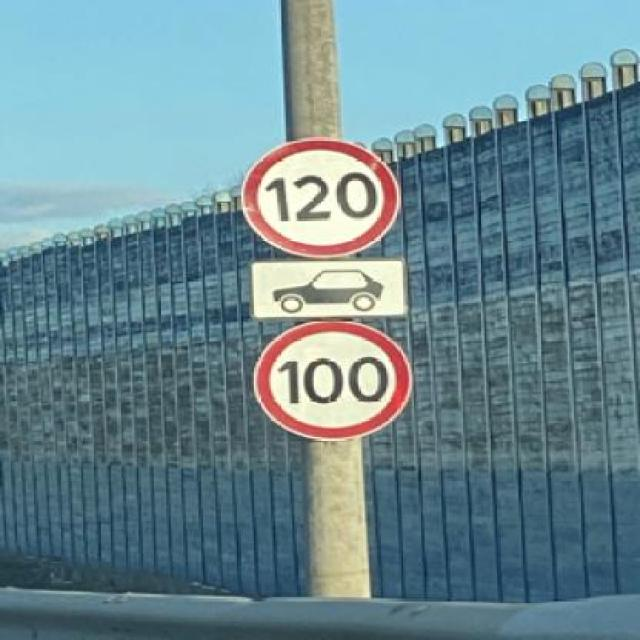forb_speed_over_100: (256, 318, 415, 440)
forb_speed_over_120: (240, 140, 398, 254)
